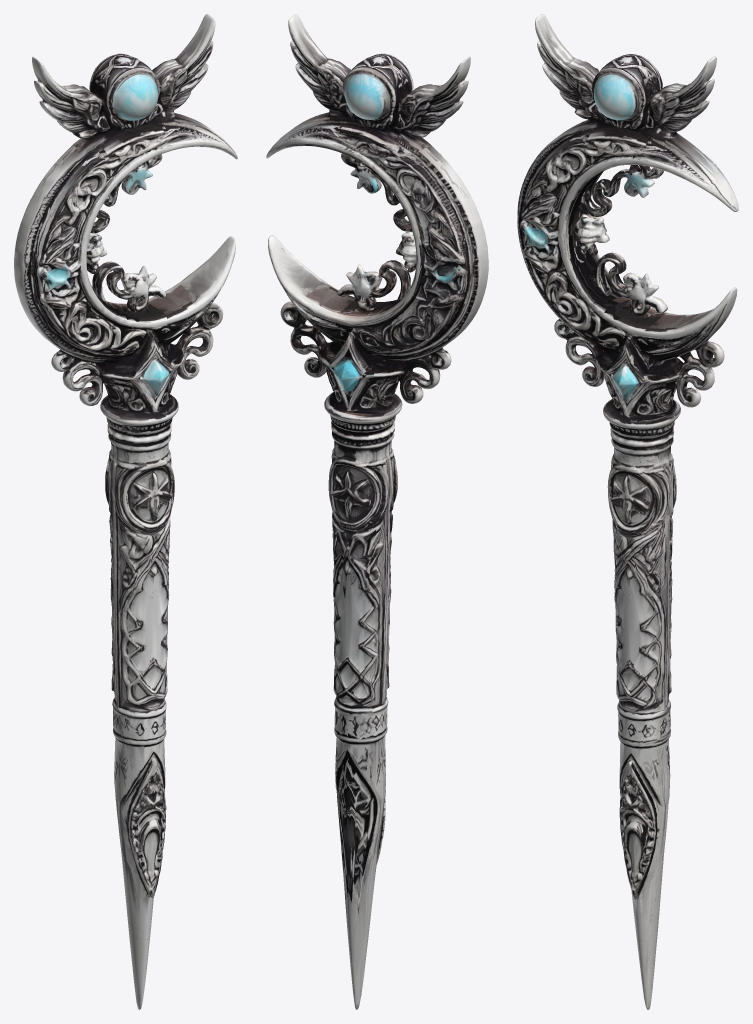
The model's file is Winged_Crescent_Scept.glb.
3 renders of one model, left to right at view 1: azimuth 30°, elevation 25°; view 2: azimuth 150°, elevation 25°; view 3: azimuth 330°, elevation 25°, orthographic.
Visible parts, largest first — view 1: Winged_Crescent_Scept; view 2: Winged_Crescent_Scept; view 3: Winged_Crescent_Scept.
Part boxes in pixels (left/top/right/bottom): Winged_Crescent_Scept: left=14, top=14, right=237, bottom=1009; Winged_Crescent_Scept: left=266, top=14, right=488, bottom=1009; Winged_Crescent_Scept: left=517, top=14, right=738, bottom=1009.
Size of the model in its own units: 0.4436 by 1.9 by 0.1569.
Materials: 1 (1 with a texture image).
